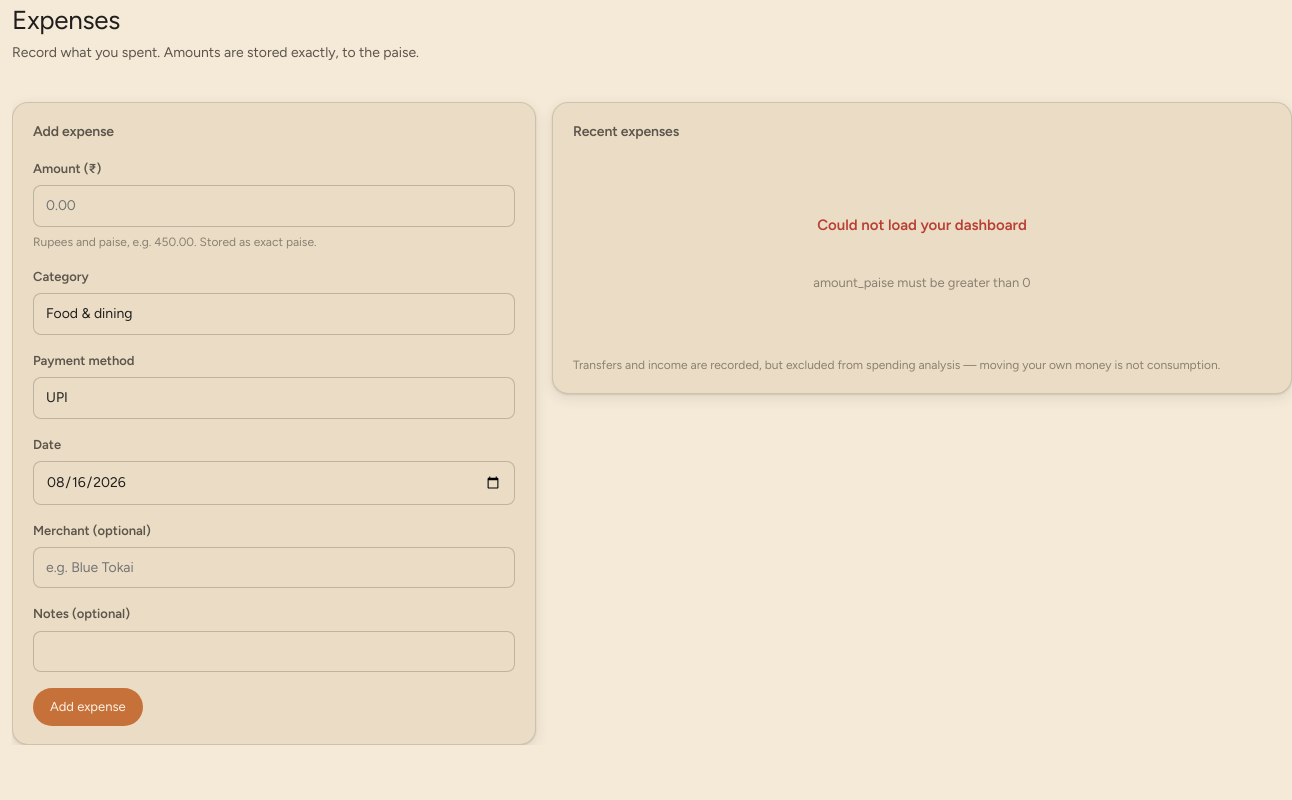
Test: add expense form › surfaces a backend validation error
The width and height of the screenshot is (1292, 800).
Type "450" into the field labelled "Amount (₹)" at [274, 206], box 33,185 -> 515,226
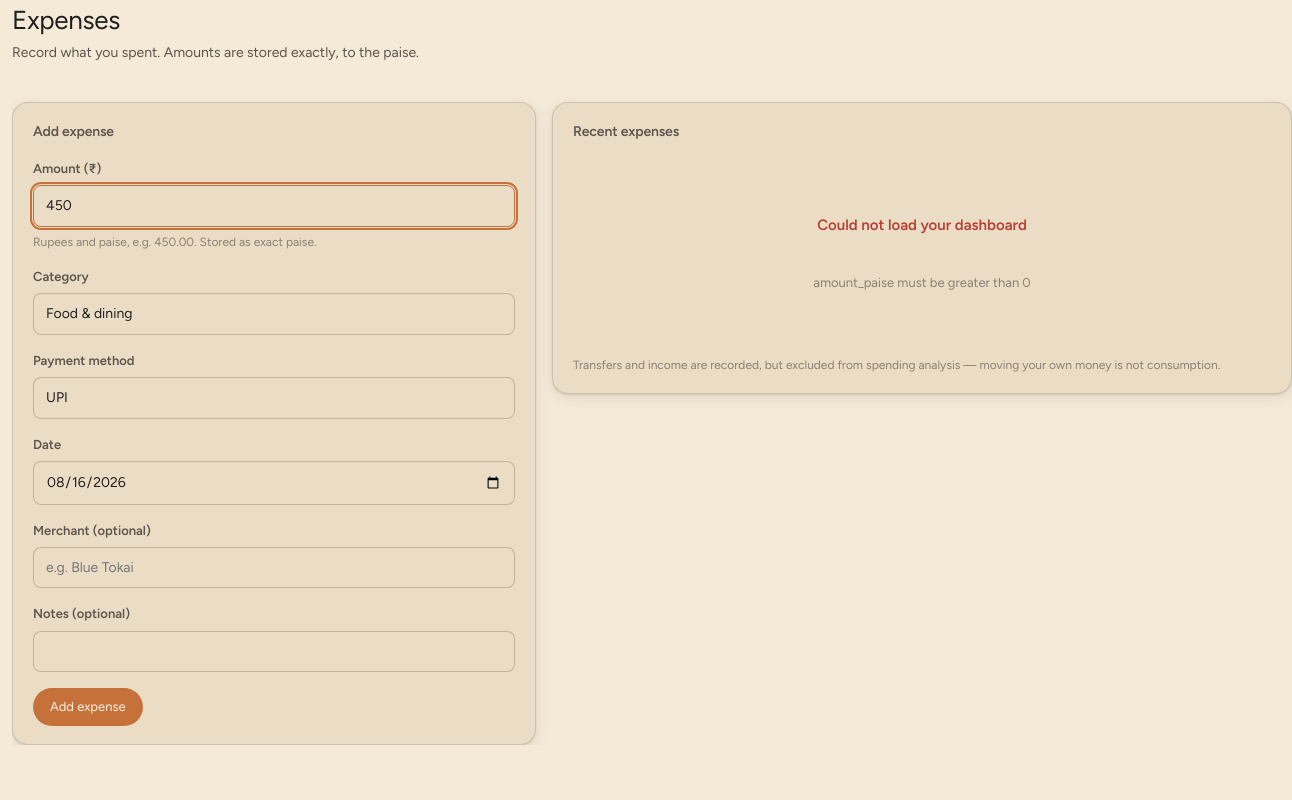
Click the button "Add expense" at [88, 707], box 33,688 -> 143,726
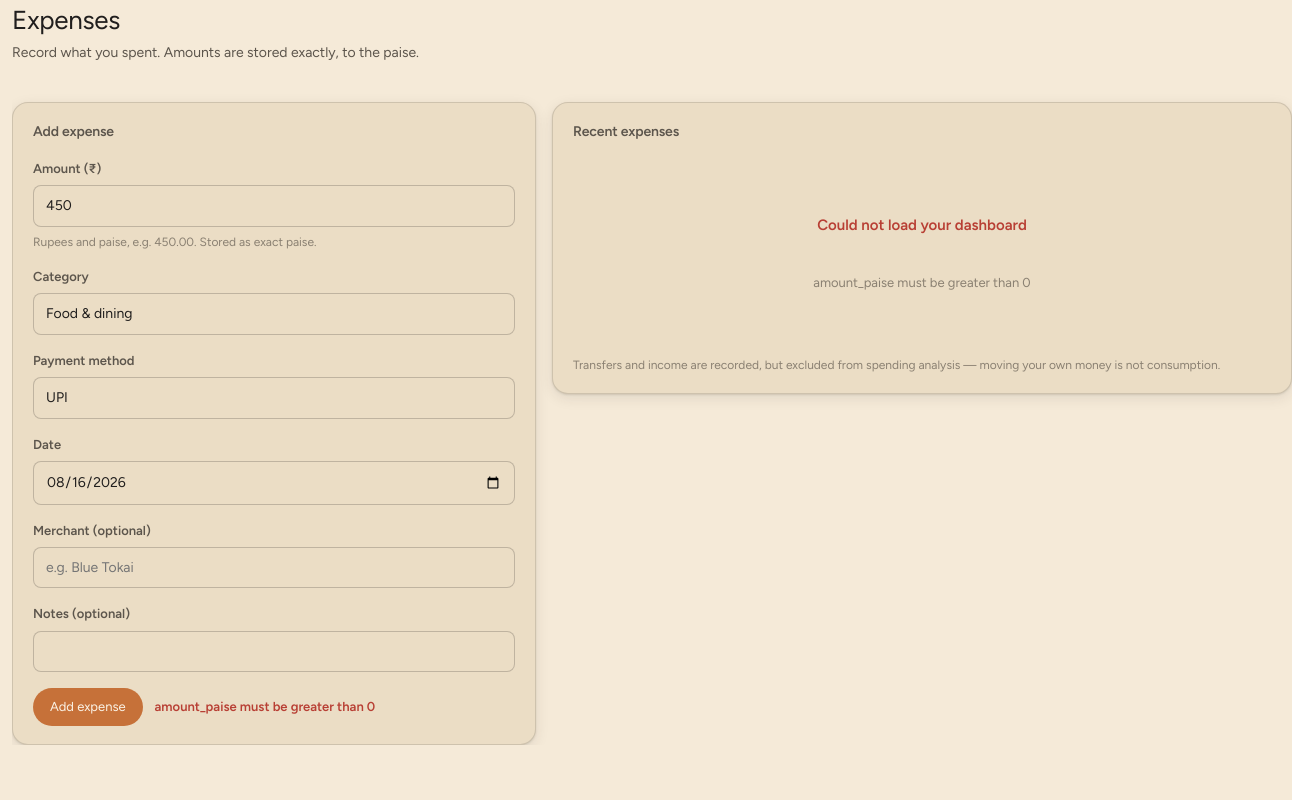
Now the text "amount_paise must be greater than 0" is shown, box 155,697 -> 375,717
